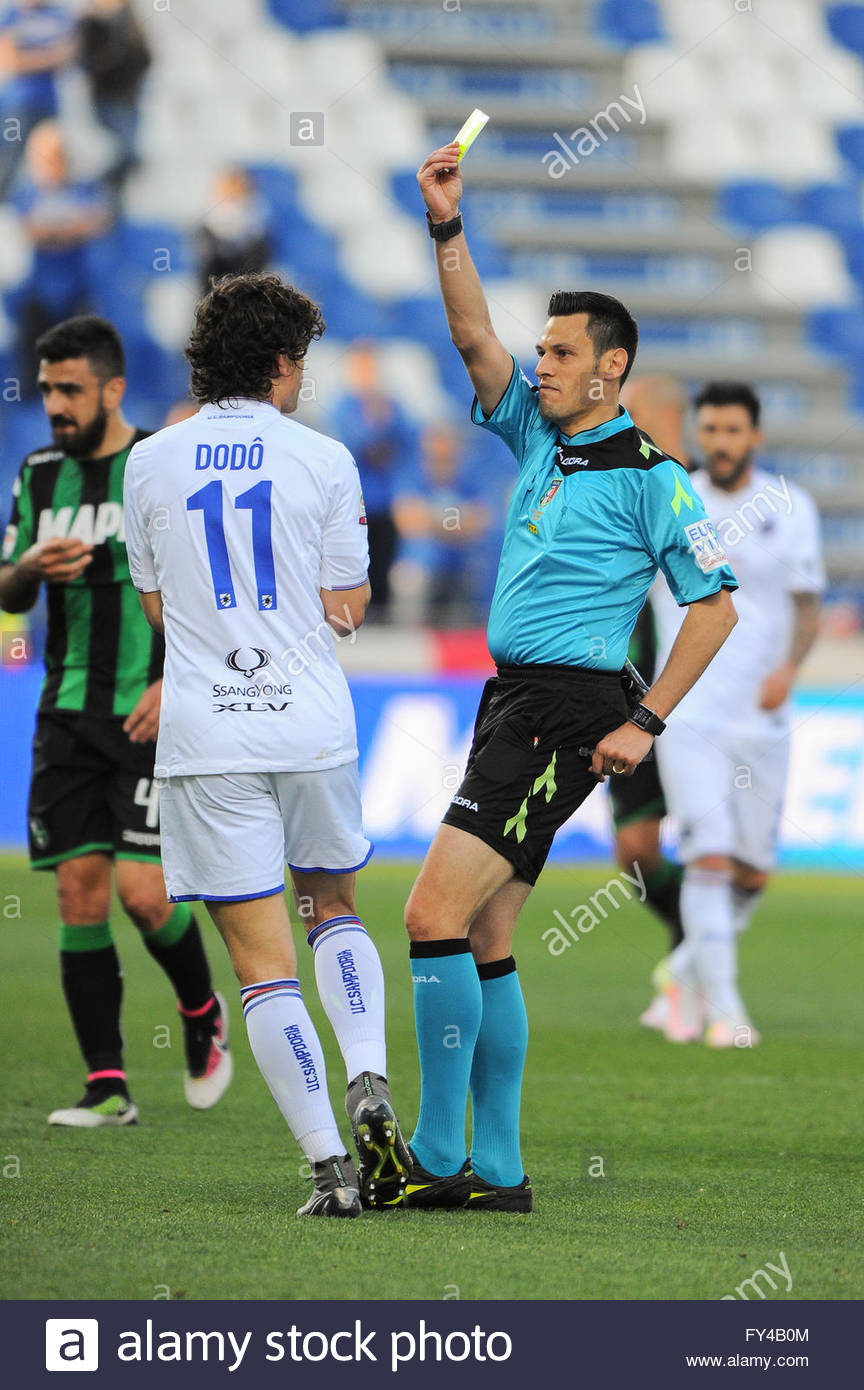yellow_card: (383, 95, 506, 229)
